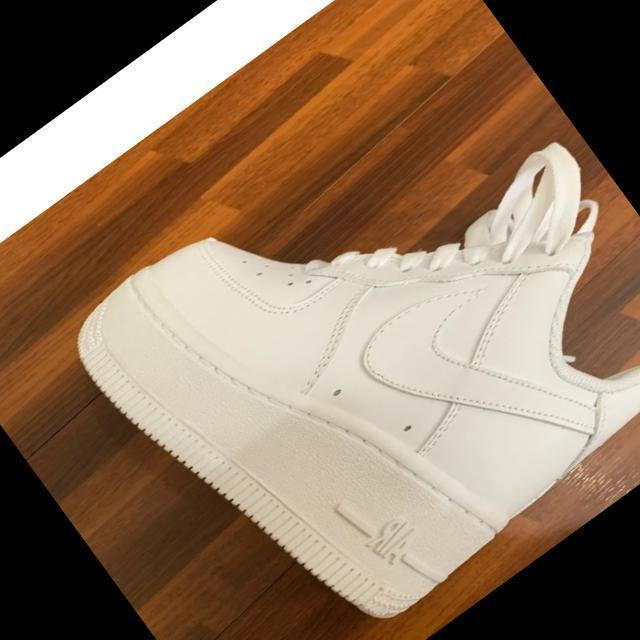nike original air force: (54, 37, 640, 640)
